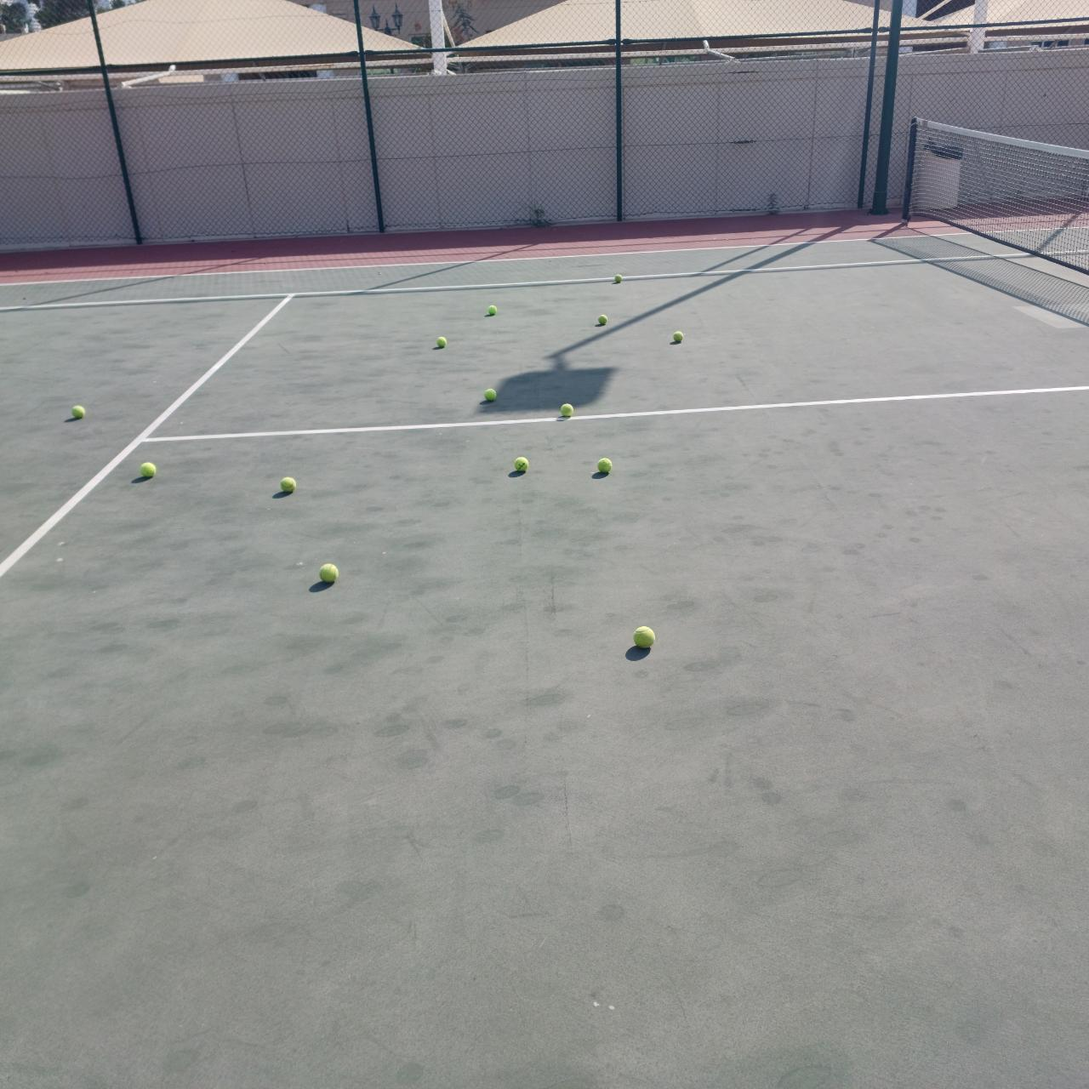tennis-ball: (631, 624, 655, 648), (317, 561, 339, 583), (278, 474, 296, 493), (139, 459, 157, 478), (595, 455, 613, 473), (511, 454, 528, 472), (69, 402, 85, 419), (559, 401, 573, 417), (484, 388, 497, 401), (672, 330, 684, 343), (436, 336, 447, 348), (597, 314, 608, 325), (487, 305, 497, 316), (613, 274, 623, 283)
